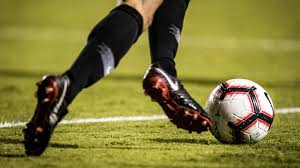soccer ball: (202, 75, 278, 145)
soccer cleats: (137, 59, 212, 135), (20, 69, 73, 157)
